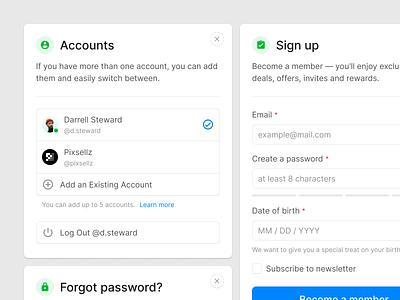button: (37, 141, 220, 175), (38, 110, 220, 142), (38, 174, 221, 197), (38, 222, 221, 245), (254, 287, 400, 300)
checkbox: (251, 263, 265, 276)
icon: (211, 33, 227, 48), (211, 275, 226, 289)
input: (253, 125, 400, 147), (252, 169, 400, 190), (253, 221, 400, 241)
label: (60, 278, 164, 297), (267, 262, 360, 277), (252, 151, 331, 167), (61, 40, 118, 55), (251, 206, 311, 220), (275, 40, 321, 56), (250, 107, 282, 122)
